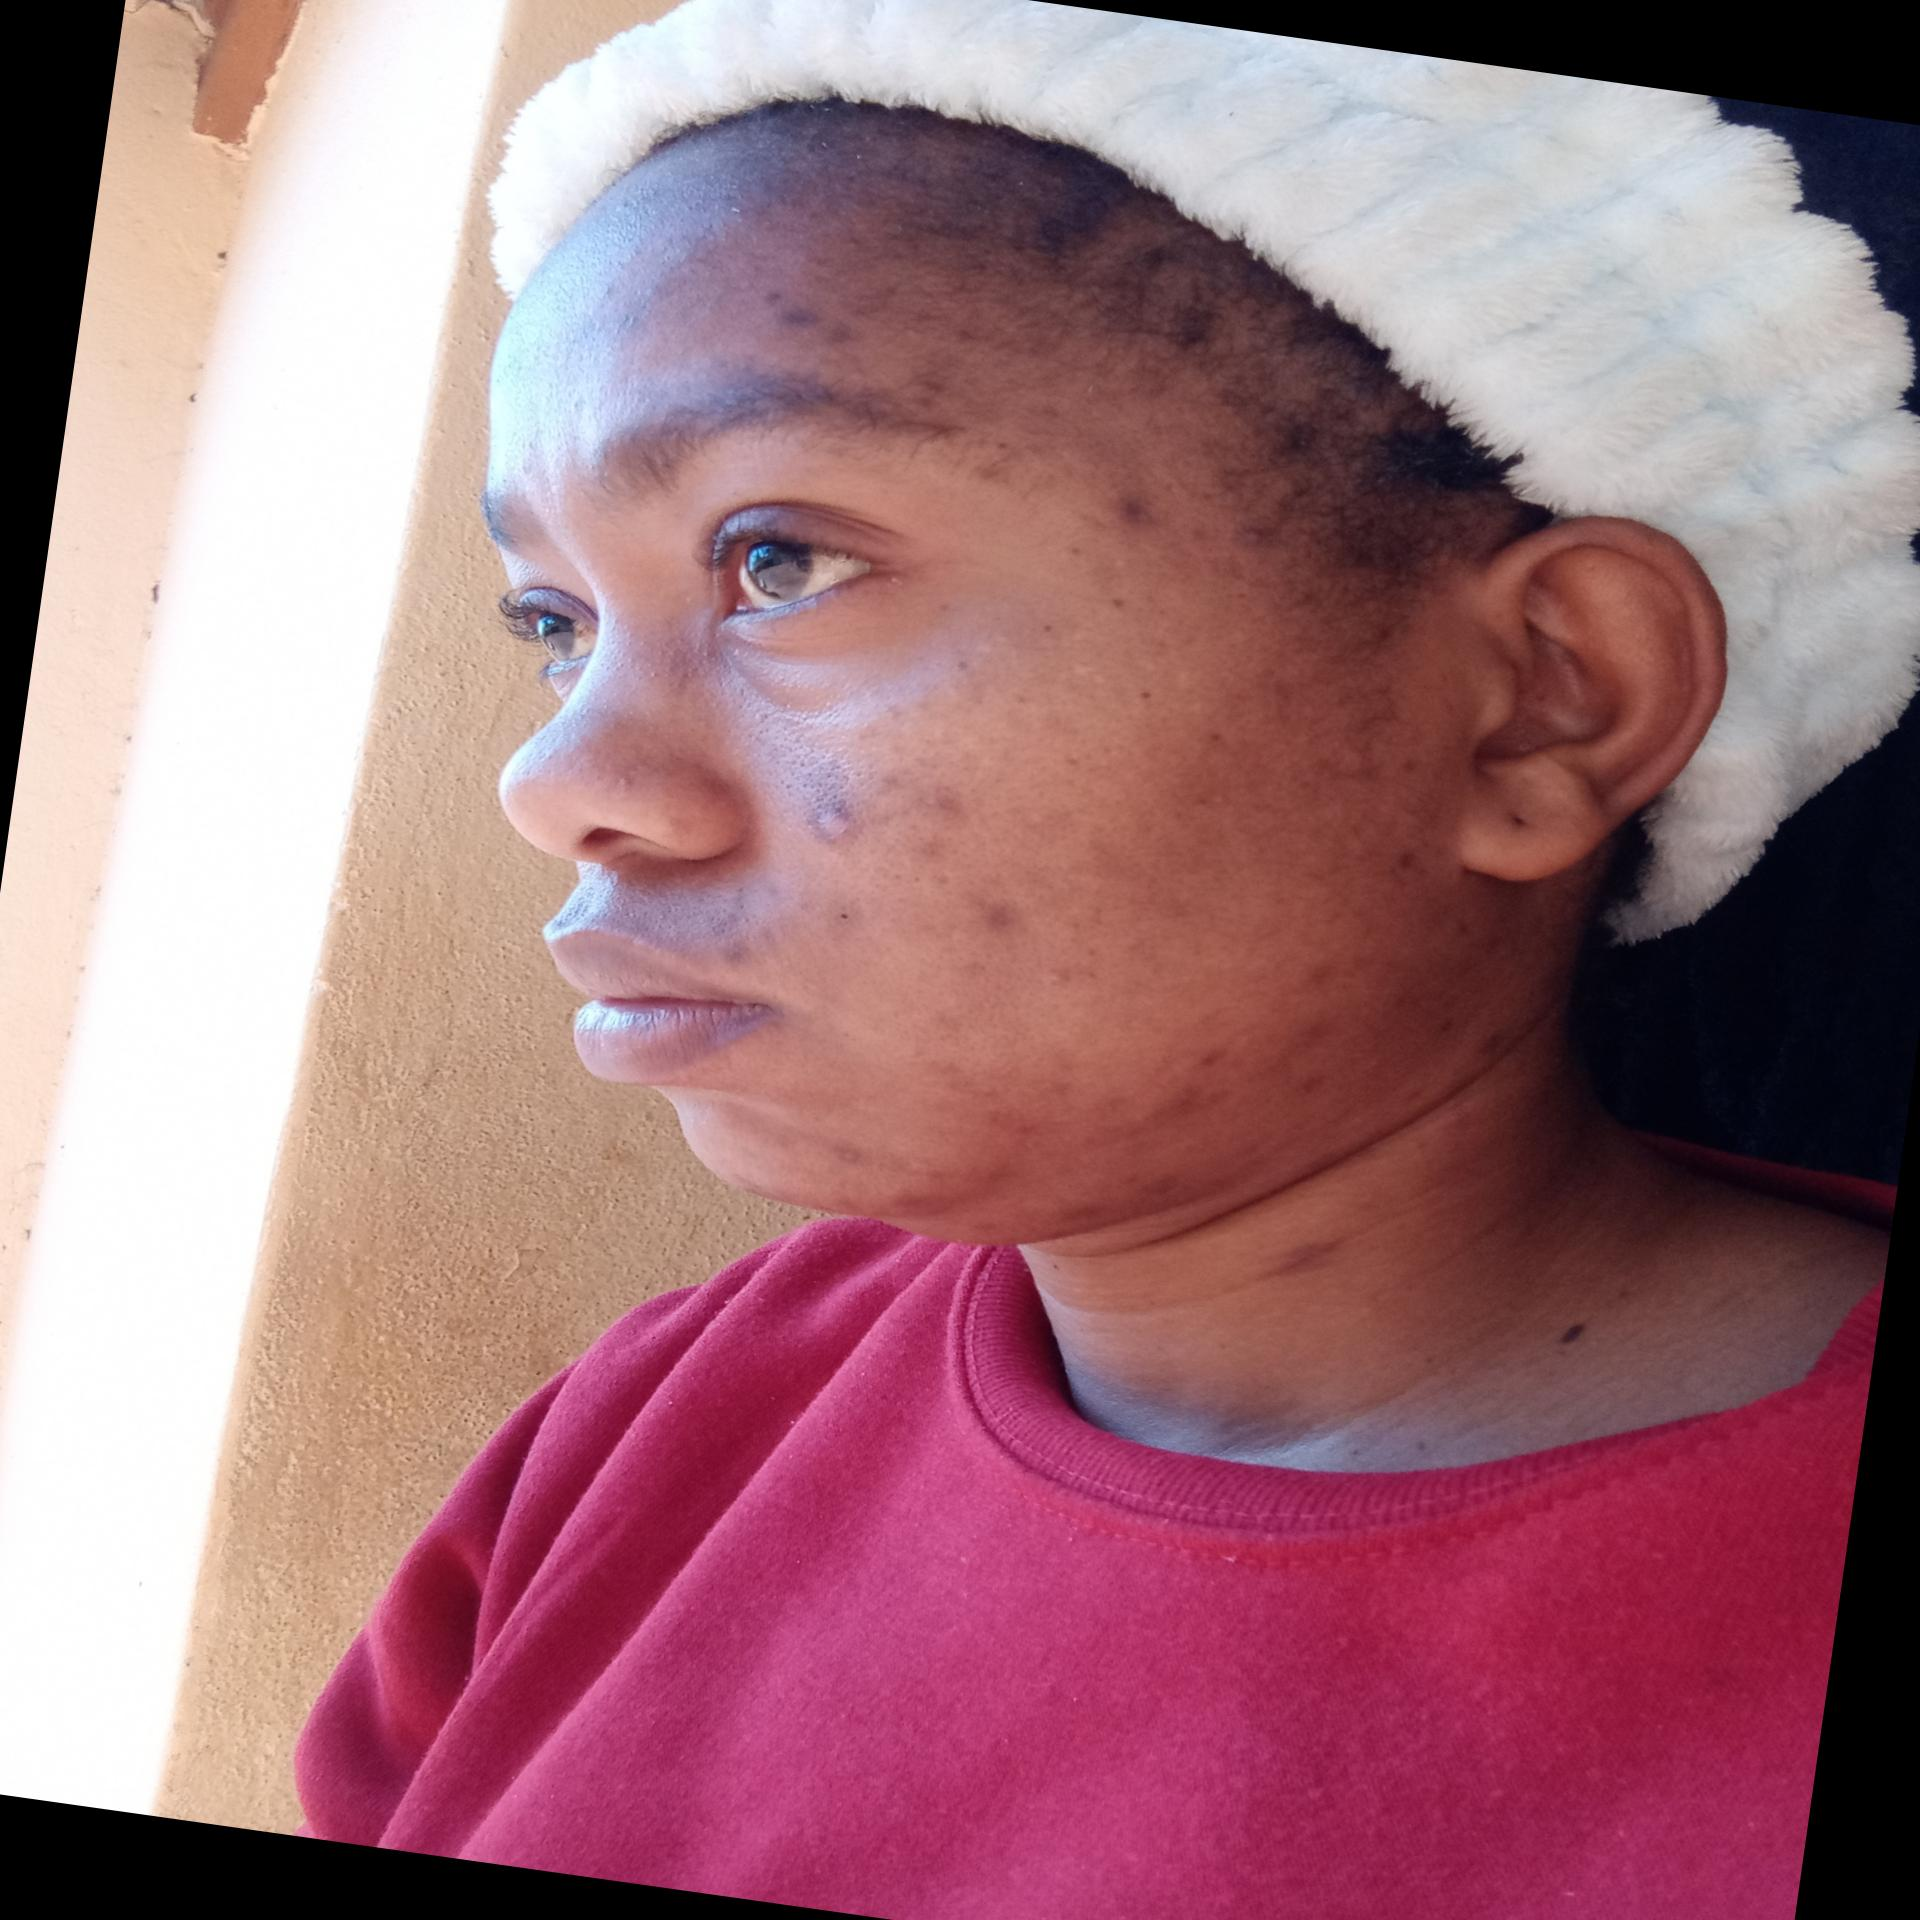Acne: (751, 280, 863, 355), (1153, 1081, 1217, 1134), (1275, 1018, 1336, 1069), (914, 784, 978, 825), (971, 893, 1032, 934), (1292, 951, 1347, 995), (700, 932, 763, 969), (879, 1185, 942, 1220), (941, 951, 993, 988), (913, 366, 953, 413), (1048, 1199, 1108, 1231), (1115, 489, 1166, 526), (1227, 517, 1276, 554), (1141, 1166, 1190, 1203), (1190, 1032, 1231, 1076), (905, 832, 951, 870), (1385, 840, 1431, 879), (825, 1138, 872, 1173), (1294, 1060, 1333, 1102), (960, 459, 1009, 491), (1034, 962, 1081, 992)
Englarged Pores: (754, 735, 867, 844)
